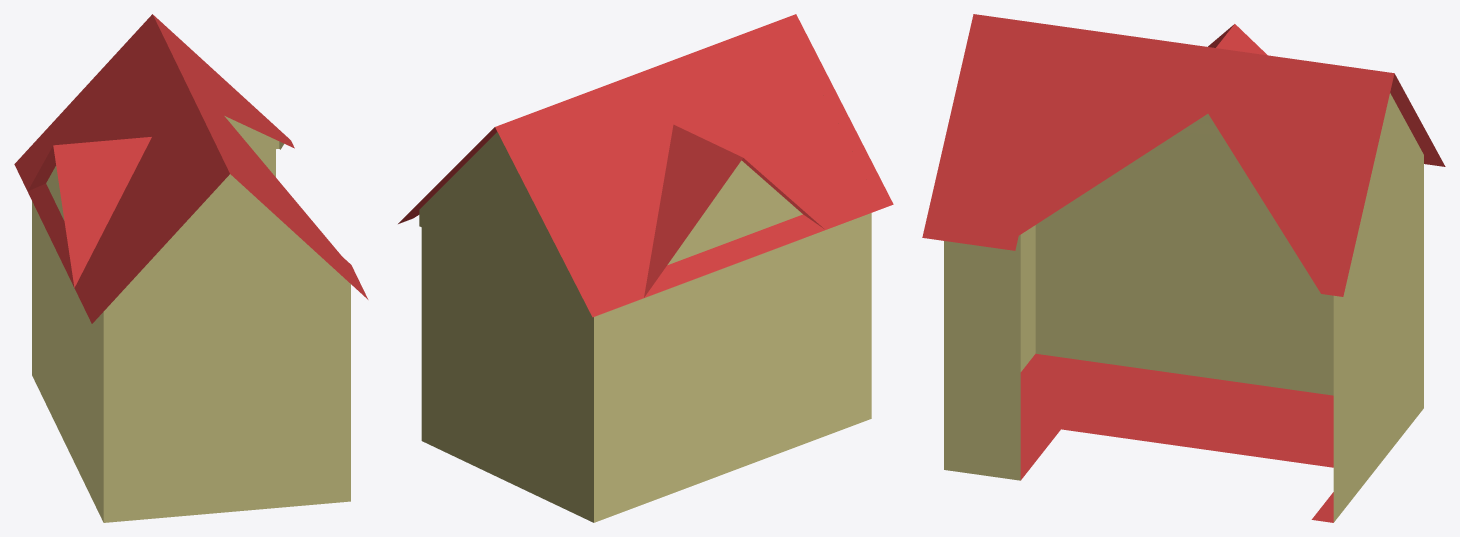
3 views of the same model, side by side, from view 1: azimuth 30°, elevation 25°; view 2: azimuth 150°, elevation 25°; view 3: azimuth 270°, elevation 25° (orthographic). The views are drawn at different scales.
Bounding box in the file's own units: 13 × 15.2 × 12.67.
